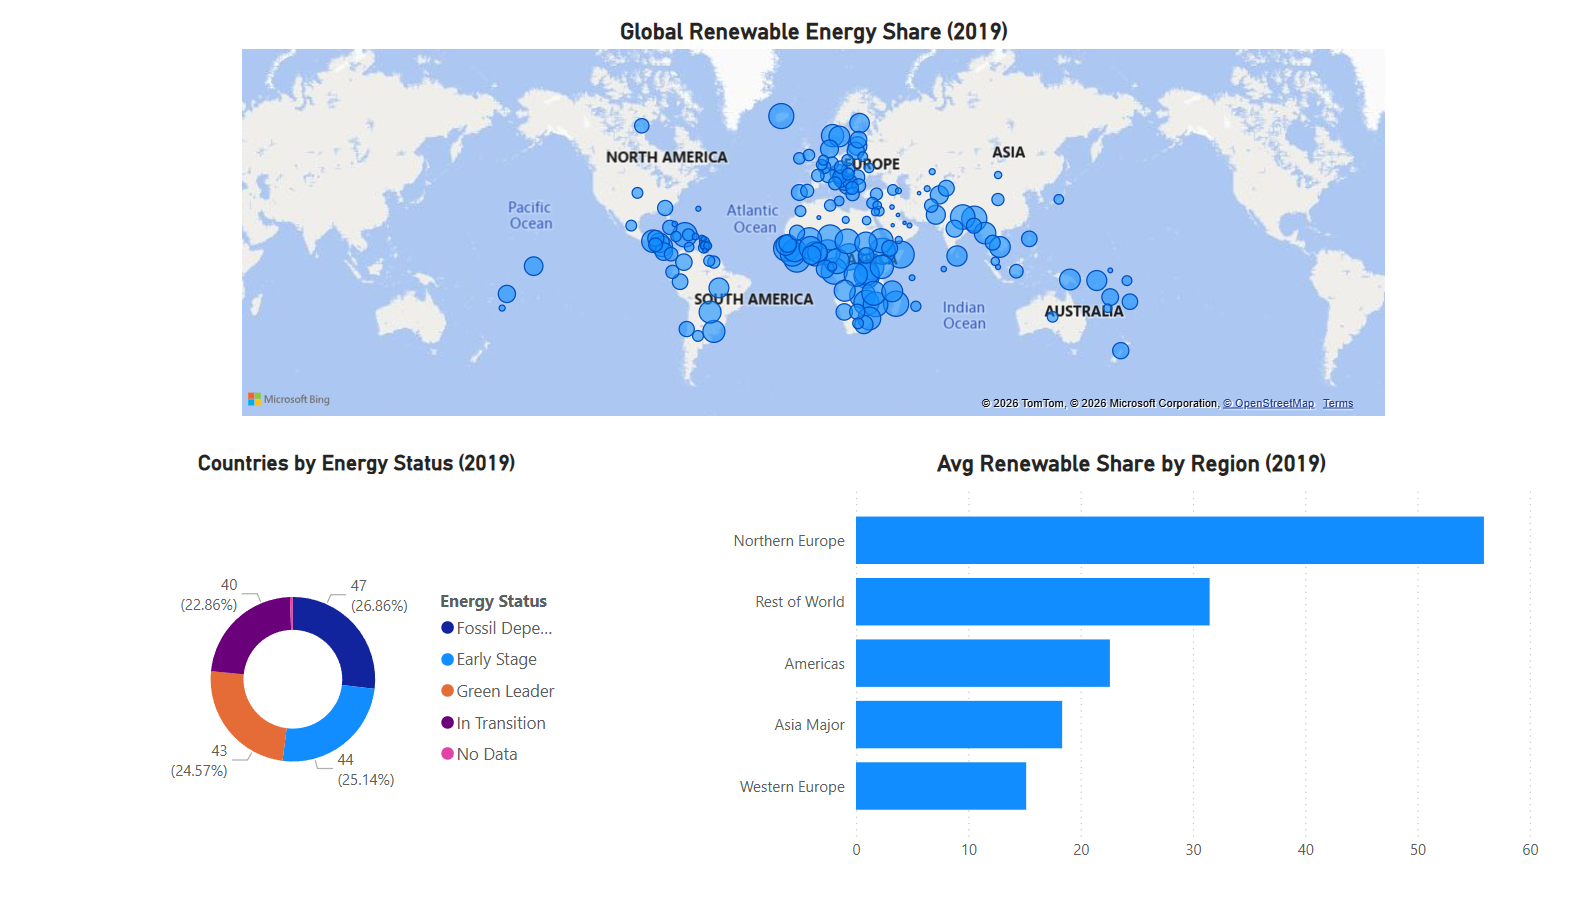

This screenshot's page, from the dashboard's own definition file:
{"tool":"powerbi","page":{"name":"Global Energy Status","canvas":[1280,720],"ordinal":3},"visuals":[{"type":"map","title":"Global Renewable Energy Share (2019)","fields":{"Size":["Avg(sustainable_energy.Renewable_energy_share_in_the_total_final_energy_consumption)"],"Category":["sustainable_energy.Entity"]},"box":[189.3,13.9,923.5,324.8],"z":0},{"type":"donutChart","title":"Countries by Energy Status (2019)","fields":{"Category":["sustainable_energy.Energy Status"],"Y":["Count(sustainable_energy.Entity)"]},"box":[111.6,359.7,346.7,348.7],"z":1},{"type":"clusteredBarChart","title":"Avg Renewable Share by Region (2019)","fields":{"Category":["sustainable_energy.Region"],"Y":["Avg(sustainable_energy.Renewable_energy_share_in_the_total_final_energy_consumption)"]},"box":[573.8,359.7,662.5,338.7],"z":2}]}

Visuals, with their boxes in screenshot pixels (x1, y1, x2, y2), scaled from the page's 1280x720 canvas onto the 1596x900 screenshot:
"Global Renewable Energy Share (2019)" map: box(236, 17, 1388, 423)
"Countries by Energy Status (2019)" donutChart: box(139, 450, 571, 886)
"Avg Renewable Share by Region (2019)" clusteredBarChart: box(715, 450, 1542, 873)
